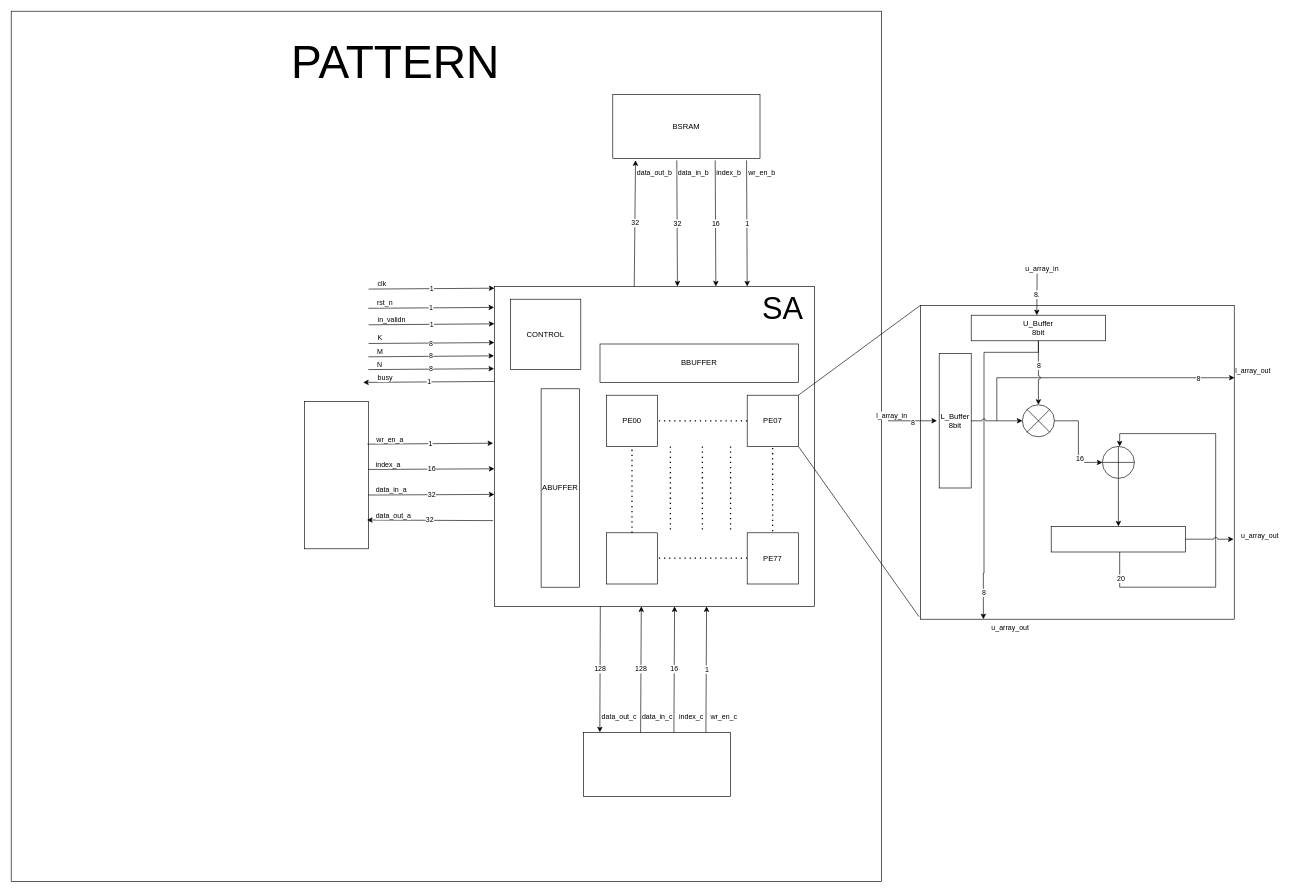
The diagram is 1309 pixels wide and 893 high, and some of its shapes have lost their labels. The centre of each missing label's shape, as x and y in pixels:
"ACC" belongs at (x=1118, y=539).
"ASRAM" belongs at (x=336, y=475).
"CSRAM" belongs at (x=657, y=764).
"PE70" belongs at (x=632, y=558).
